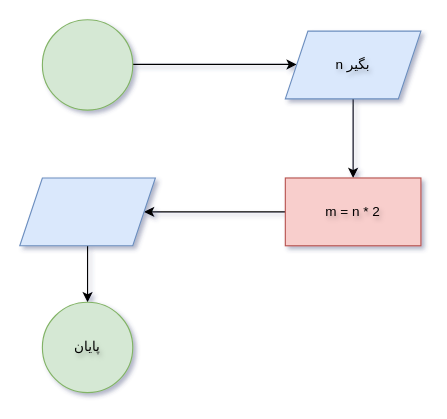
This 447x419 diagram has some shape labels left out. Here are the shapes that lost their labels. From the top down, the centre of each, then its label:
At pixel 87 64: "شروع".
At pixel 87 211: "m چاپ کن".
